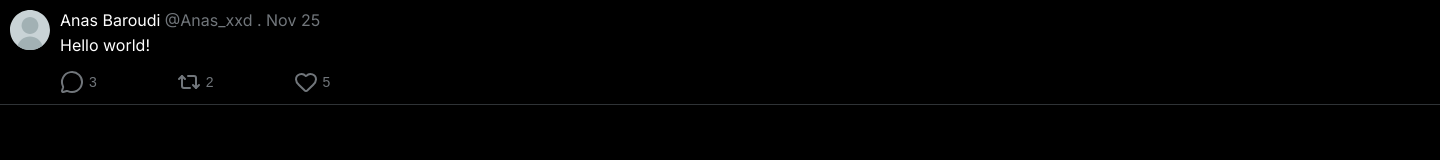
Test case: Post › should increase the like count when liked
Click the button named "Like" at point(312, 82), box [294, 70, 330, 94]
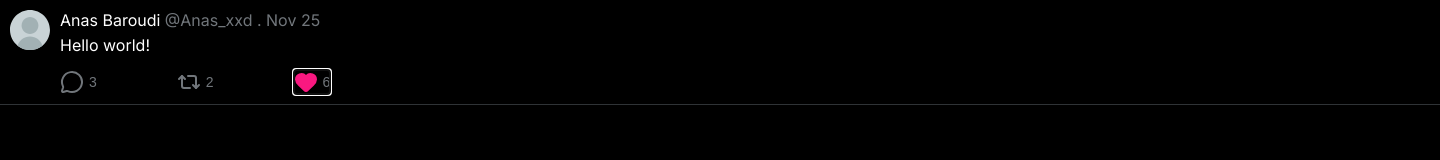
Result: the button named "Like" reads "6" at [294, 70, 330, 94]
